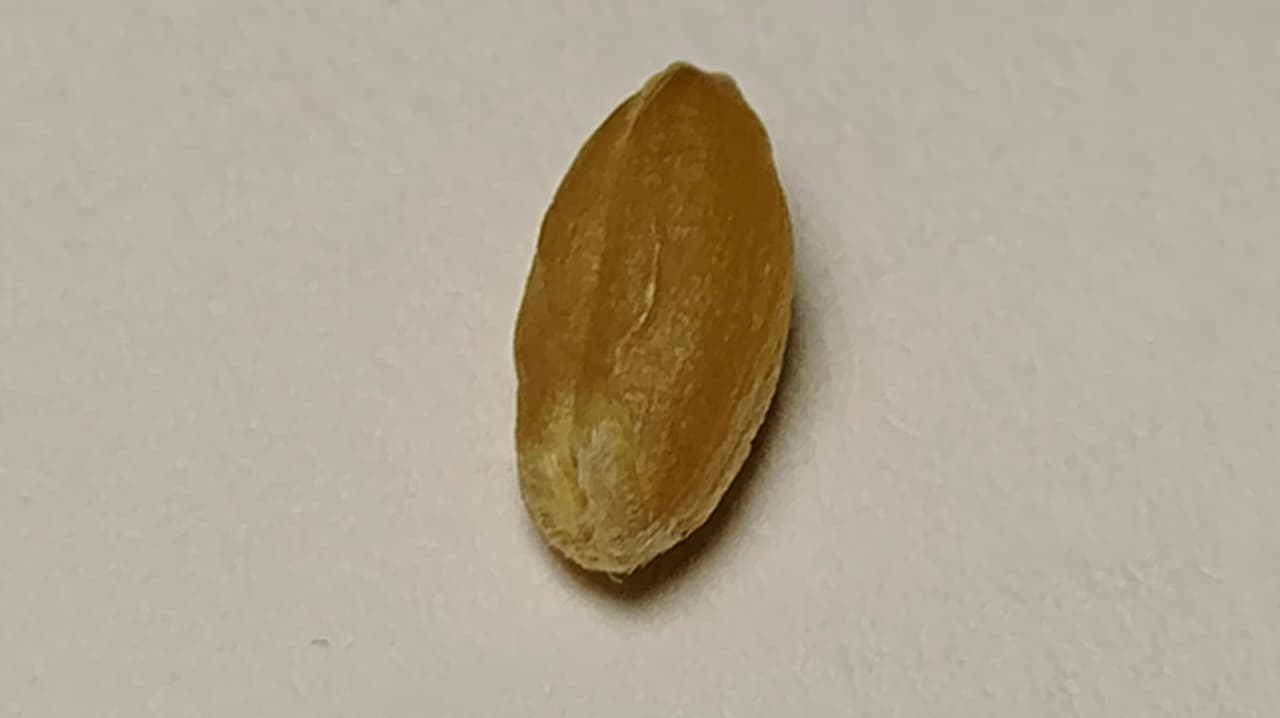healthy: (515, 63, 792, 573)
